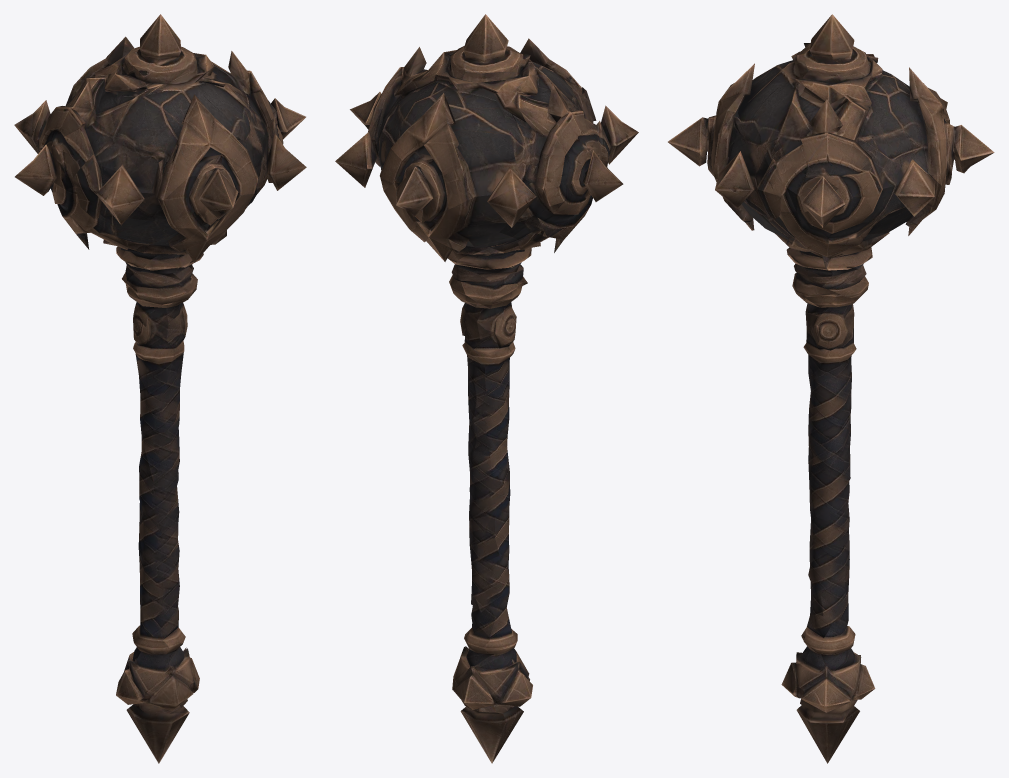
File: shalva_gada.glb
3 renders of one model, left to right at view 1: azimuth 30°, elevation 25°; view 2: azimuth 150°, elevation 25°; view 3: azimuth 270°, elevation 25°, orthographic.
Parts seen in each view (by area): view 1: Mesh_0; view 2: Mesh_0; view 3: Mesh_0.
Part boxes in pixels (<box>): Mesh_0: <box>14,14,306,763</box>; Mesh_0: <box>335,14,638,763</box>; Mesh_0: <box>668,14,994,763</box>.
Bounding box in the file's own units: 0.5933 × 1.5 × 0.5918.
1 material, 1 textured.
